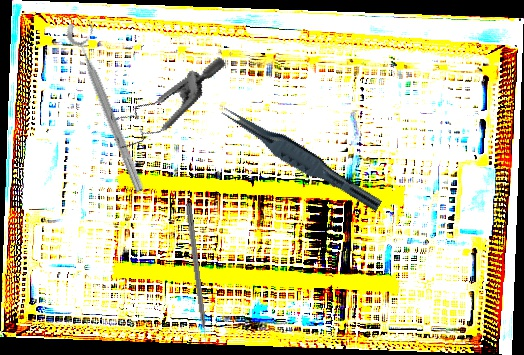Fixation Ring: (63, 16, 158, 195)
Hook Surgical: (184, 203, 209, 348)
Speculum: (97, 25, 227, 174)
Tissue Forceps: (215, 102, 388, 213)
